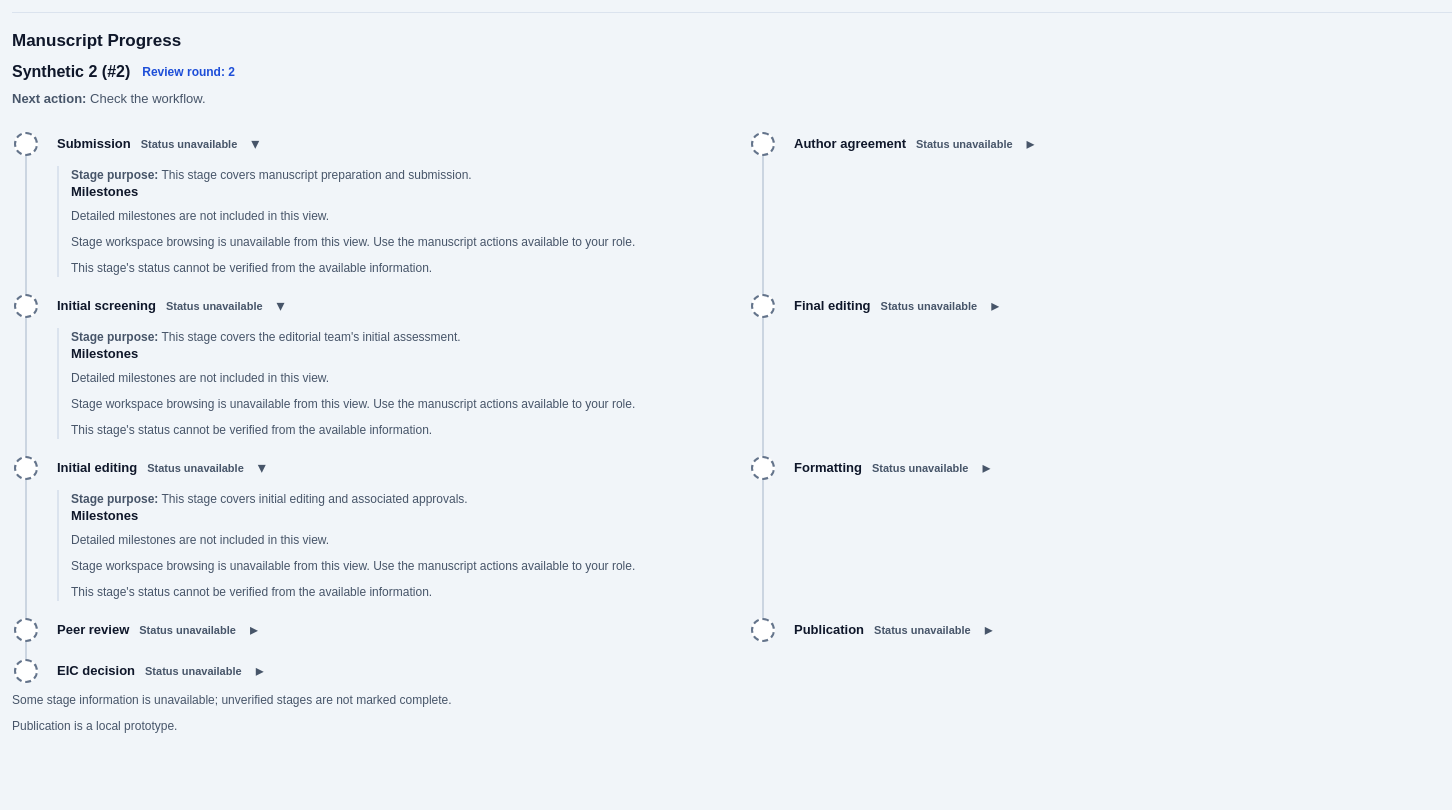
Scenario: provides an explanatory disclosure for every stage without inventing records
Earlier steps of the test are not shown.
expect the 3rd heading "Milestones" is shown: met, box x1=71 y1=508 x2=138 y2=523
expect the 3rd text "Detailed milestones are not included in this view." is shown: met, box x1=71 y1=533 x2=329 y2=547
Click the heading "Peer review Status unavailable" at (146, 630), box x1=57 y1=622 x2=236 y2=637
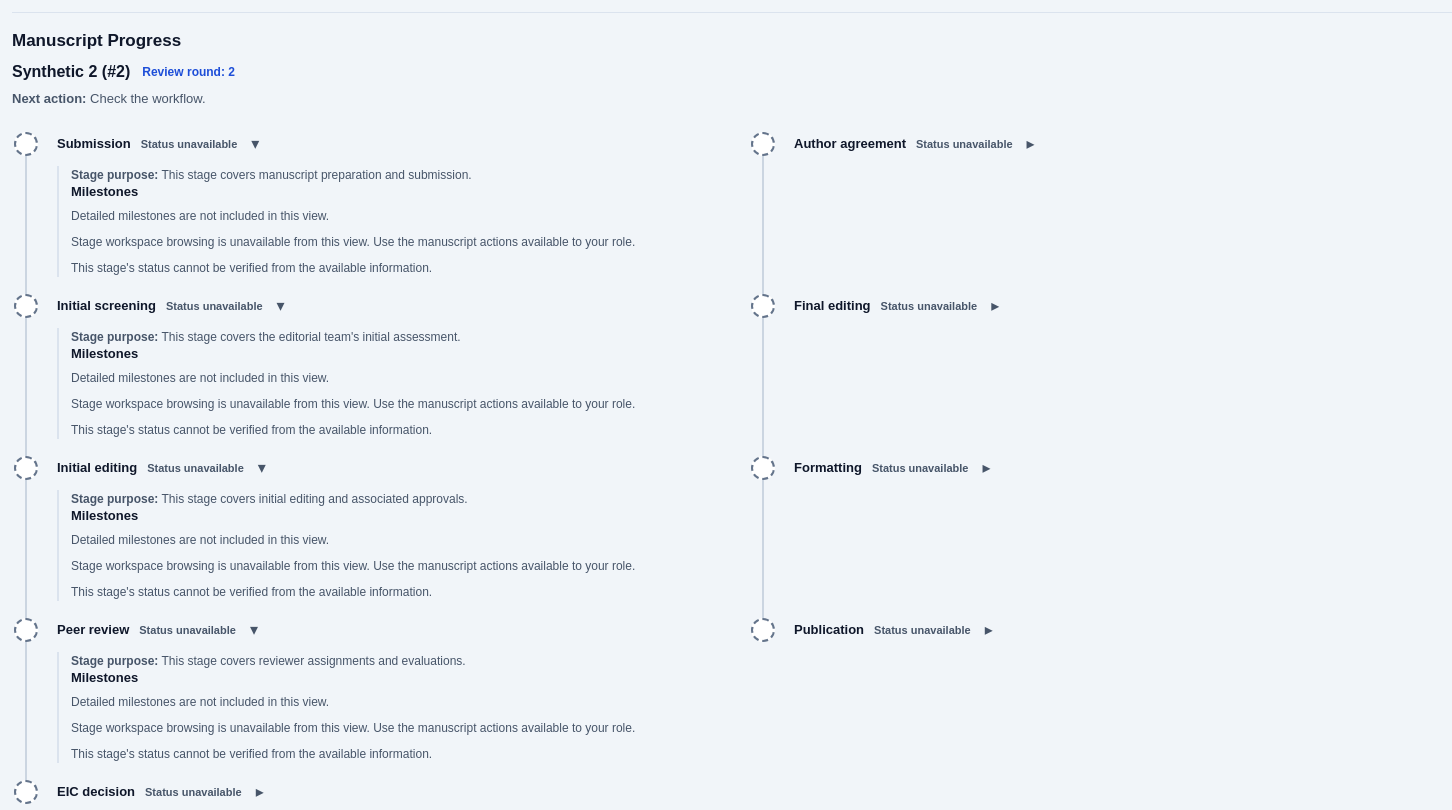
expect the heading "Milestones" below "Peer review" is shown: met, box x1=71 y1=670 x2=138 y2=685
expect the text "Detailed milestones are not included in this view." below "Peer review" is shown: met, box x1=71 y1=695 x2=329 y2=709
expect the text "This stage's status cannot be verified from the available information." below "Peer review" is shown: met, box x1=71 y1=747 x2=432 y2=761
Click the heading "EIC decision Status unavailable" at (149, 792), box x1=57 y1=784 x2=242 y2=799
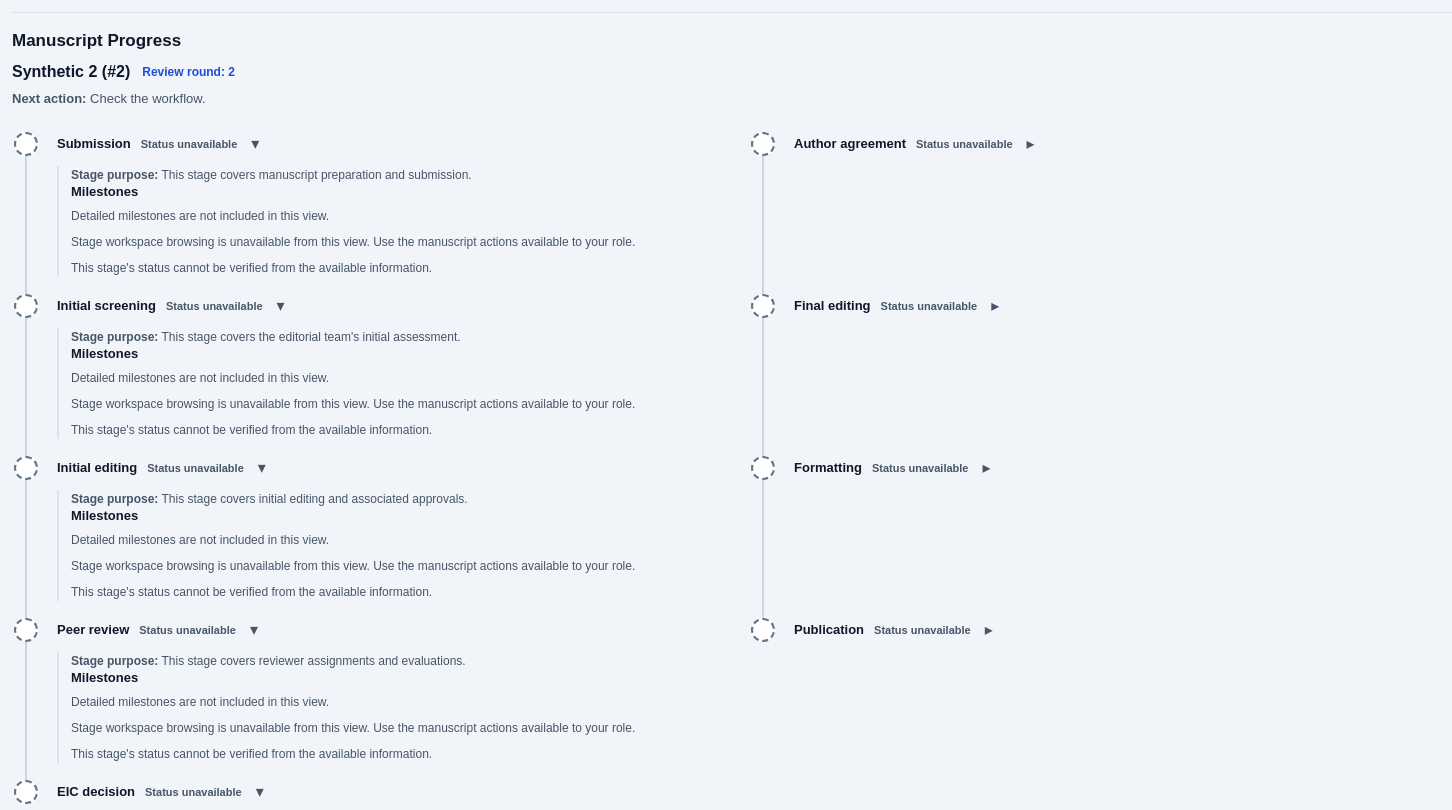
Click the heading "Author agreement Status unavailable" at (903, 144), box x1=794 y1=136 x2=1013 y2=151
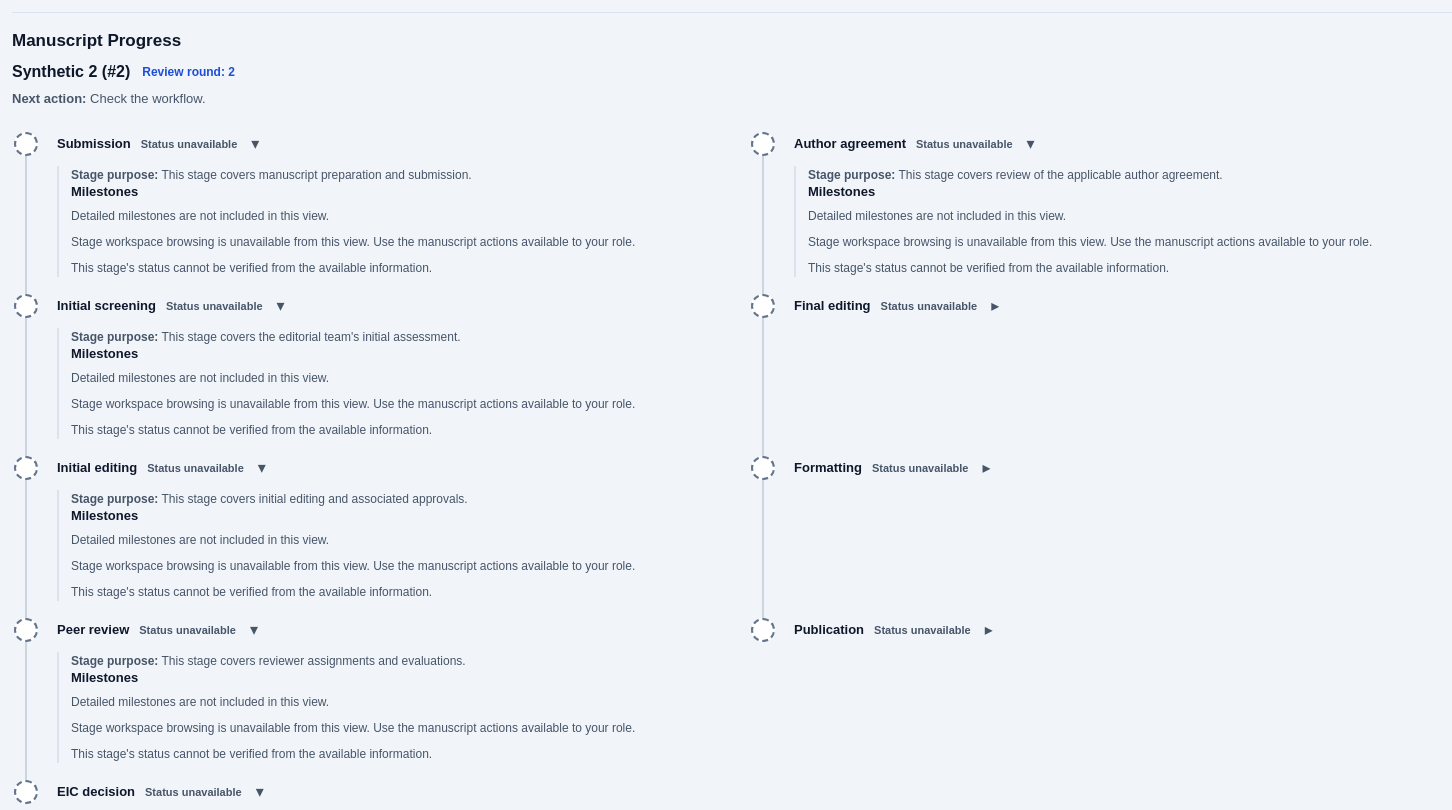
expect the 2nd heading "Milestones" is shown: met, box x1=808 y1=184 x2=875 y2=199
expect the 2nd text "Detailed milestones are not included in this view." is shown: met, box x1=808 y1=209 x2=1066 y2=223
expect the 2nd text "This stage's status cannot be verified from the available information." is shown: met, box x1=808 y1=261 x2=1169 y2=275
Click the heading "Final editing Status unavailable" at (886, 306), box x1=794 y1=298 x2=977 y2=313
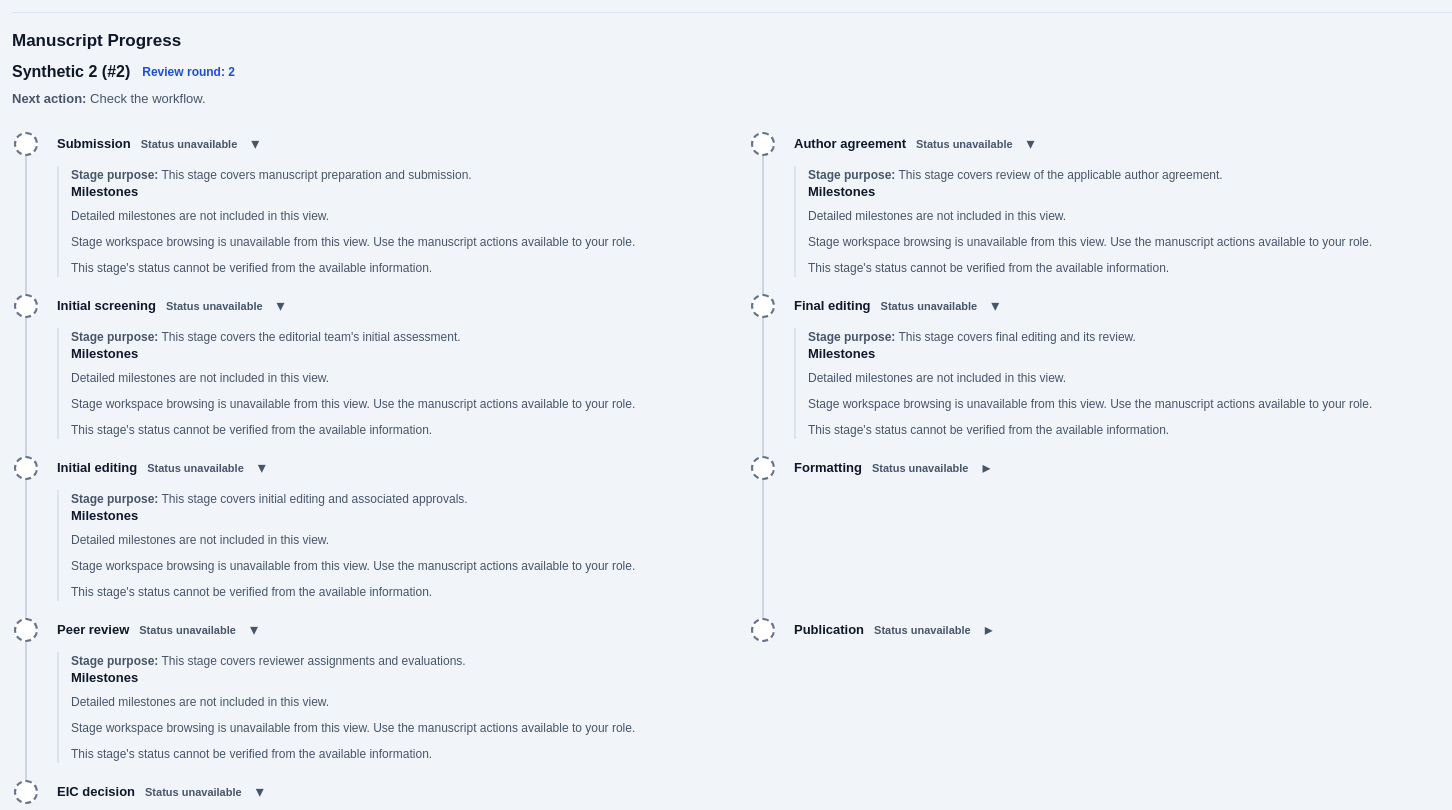
expect the 4th heading "Milestones" is shown: met, box x1=808 y1=346 x2=875 y2=361
expect the 4th text "Detailed milestones are not included in this view." is shown: met, box x1=808 y1=371 x2=1066 y2=385
expect the 4th text "This stage's status cannot be verified from the available information." is shown: met, box x1=808 y1=423 x2=1169 y2=437
Click the heading "Formatting Status unavailable" at (881, 468), box x1=794 y1=460 x2=968 y2=475
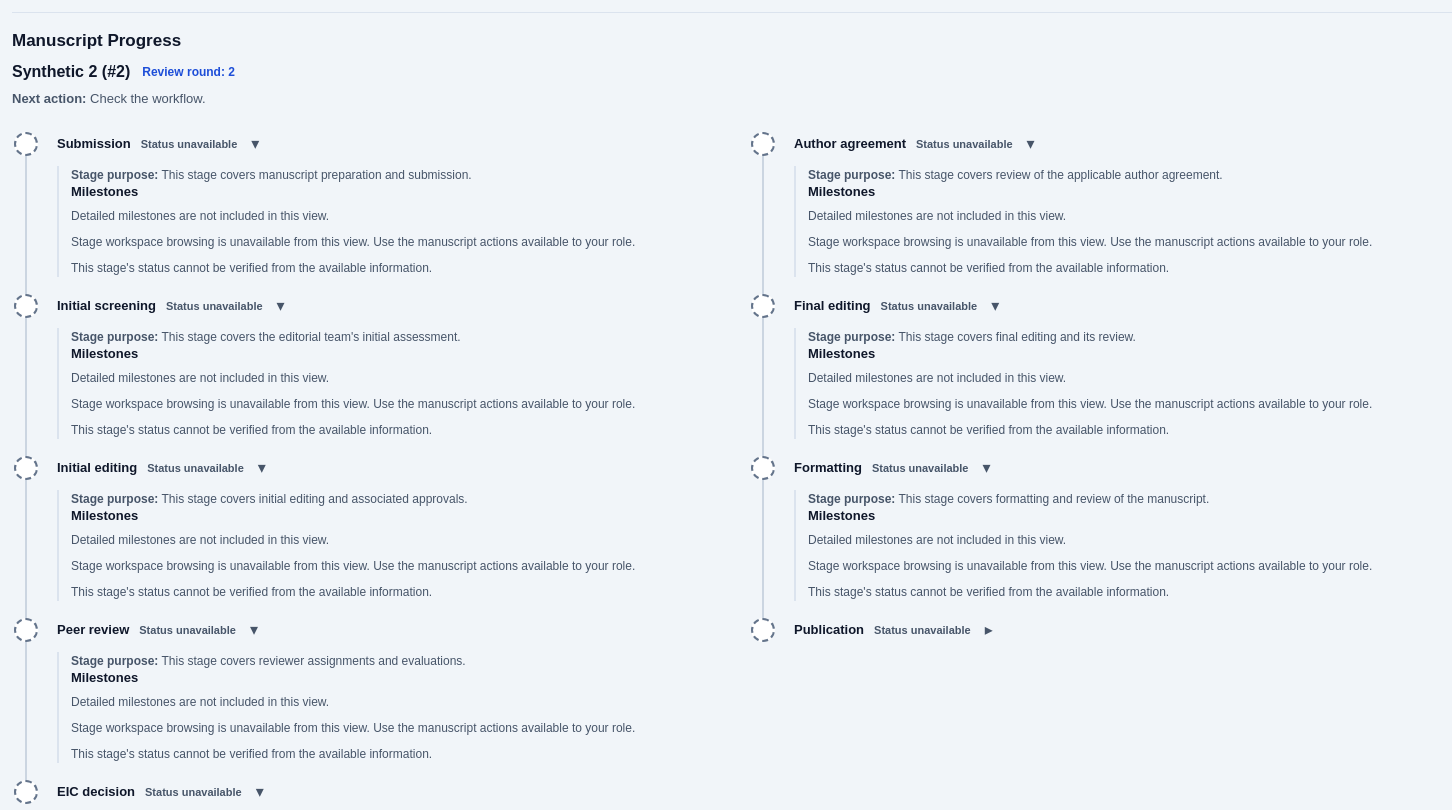
expect the 6th heading "Milestones" is shown: met, box x1=808 y1=508 x2=875 y2=523
expect the 6th text "Detailed milestones are not included in this view." is shown: met, box x1=808 y1=533 x2=1066 y2=547
expect the 6th text "This stage's status cannot be verified from the available information." is shown: met, box x1=808 y1=585 x2=1169 y2=599
Click the heading "Publication Status unavailable" at (882, 630), box x1=794 y1=622 x2=971 y2=637
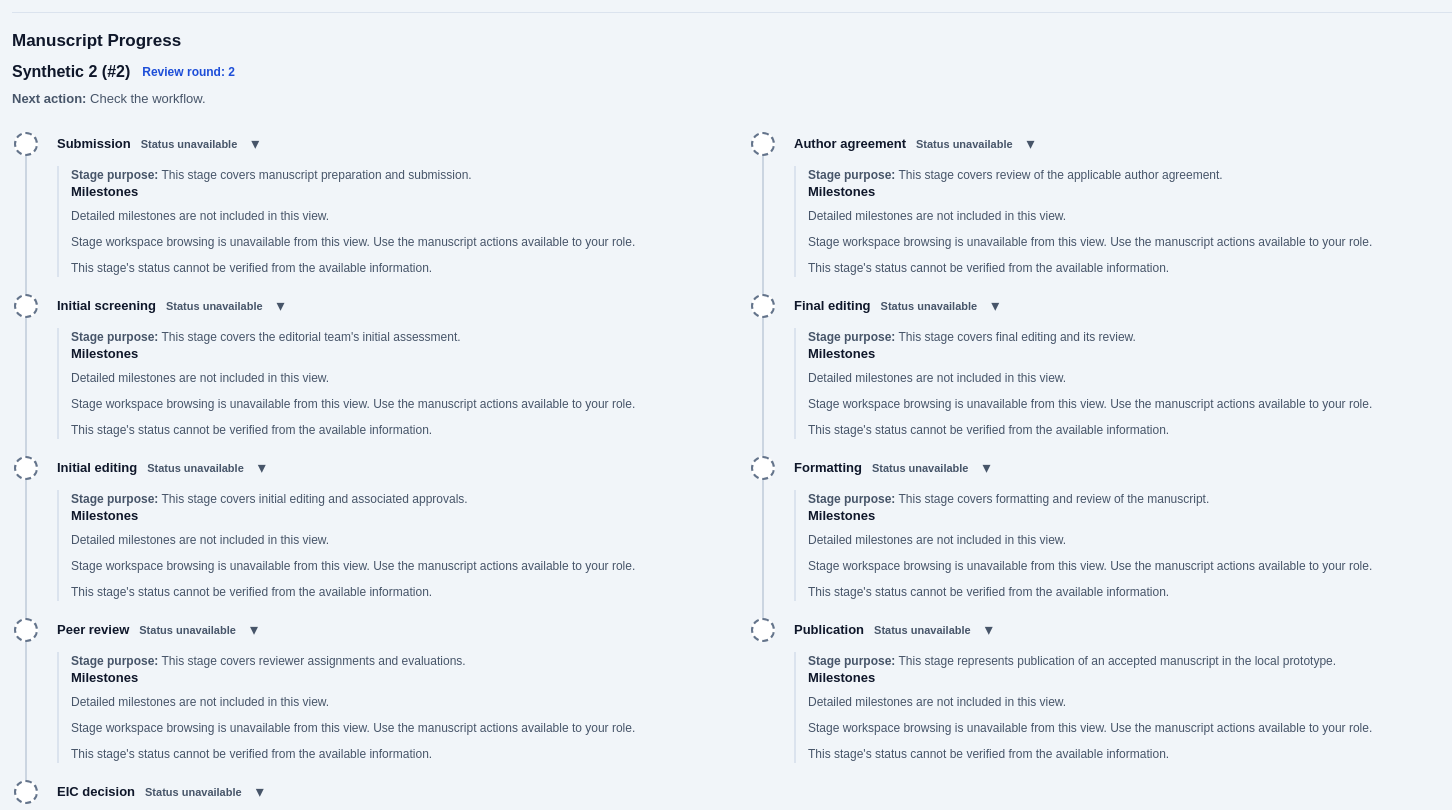
expect the 8th heading "Milestones" is shown: met, box x1=808 y1=670 x2=875 y2=685
expect the 8th text "Detailed milestones are not included in this view." is shown: met, box x1=808 y1=695 x2=1066 y2=709
expect the 8th text "This stage's status cannot be verified from the available information." is shown: met, box x1=808 y1=747 x2=1169 y2=761
